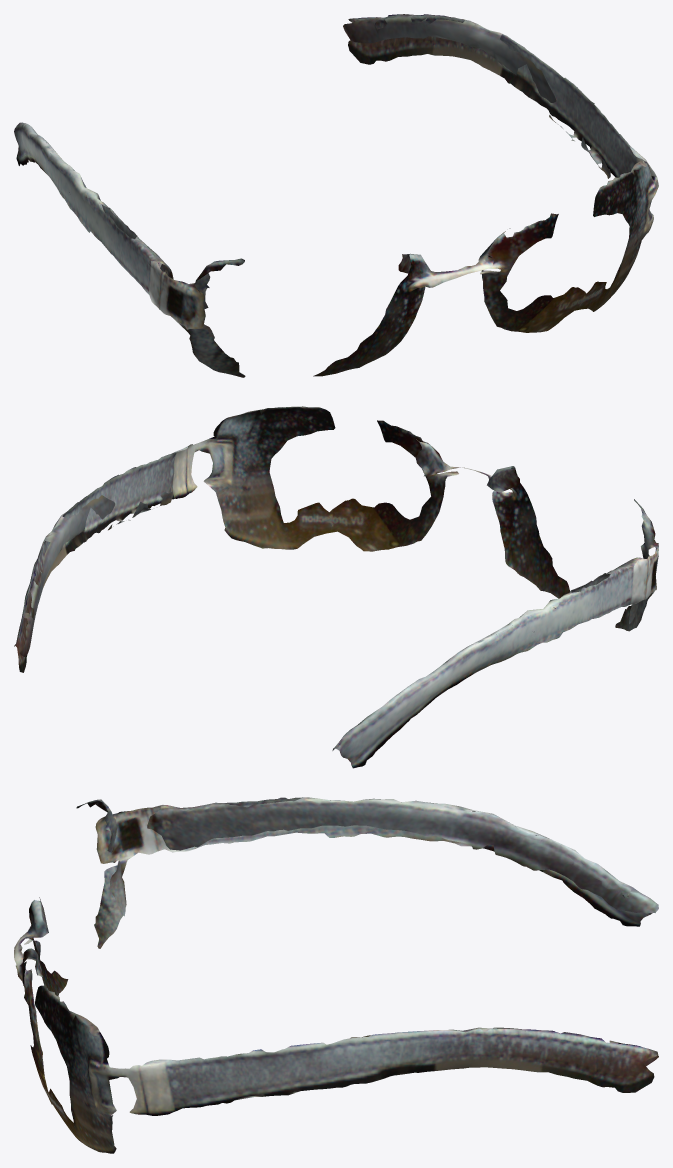
The model's file is scan_align.obj.
3 renders of one model, top to bottom at view 1: azimuth 30°, elevation 25°; view 2: azimuth 150°, elevation 25°; view 3: azimuth 270°, elevation 25°, orthographic. The views are drawn at different scales.
Bounding box in the file's own units: 0.1465 × 0.0398 × 0.1553.
Materials: 1 (1 with a texture image).
